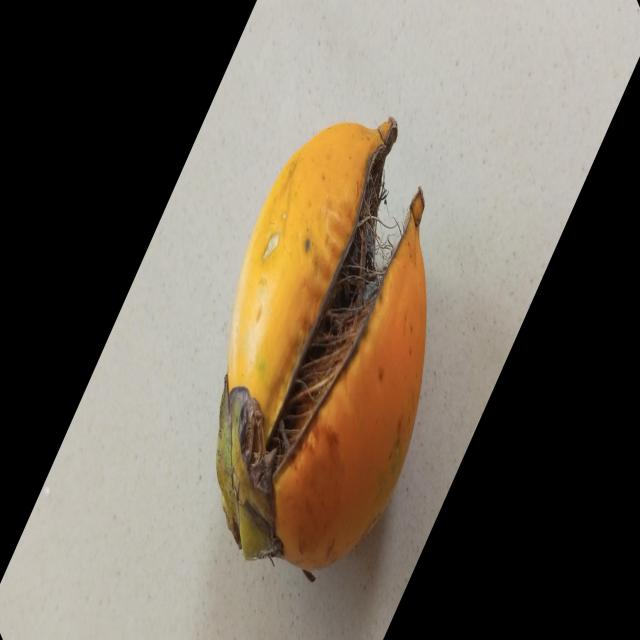damaged: (216, 118, 426, 581)
